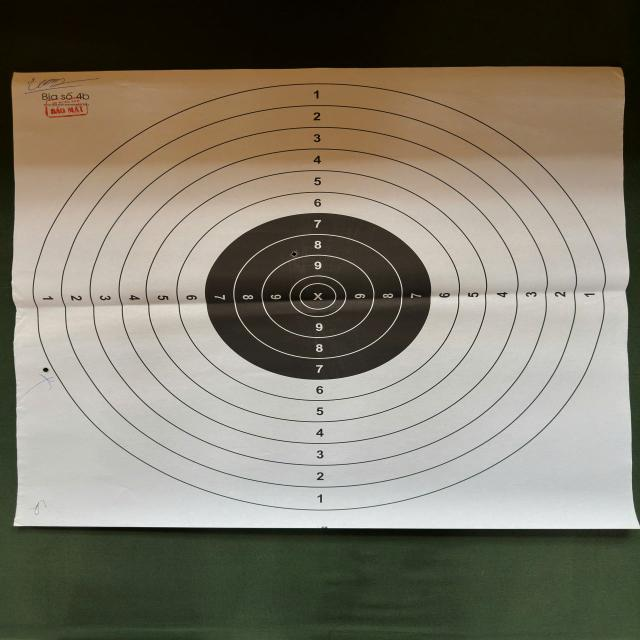bullet: (291, 251, 298, 258), (43, 368, 48, 372)
target: (13, 68, 637, 528)
